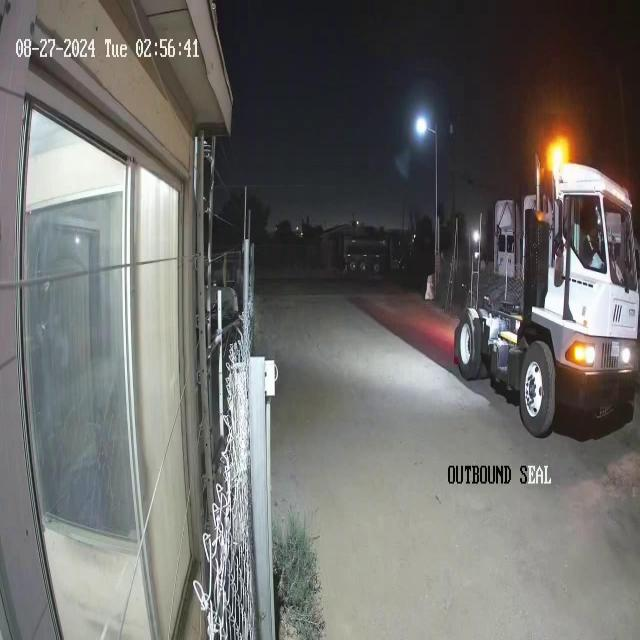TRUCK_IN: (455, 149, 639, 439)
